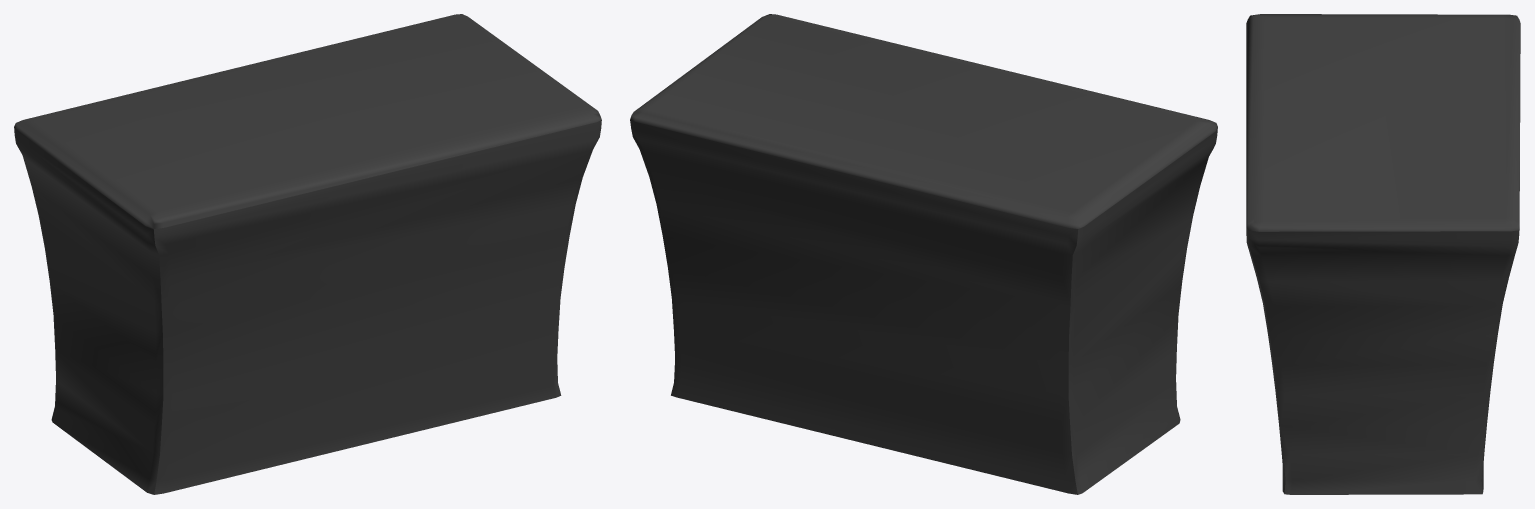
The model's file is multi-4ft-4-24.glb.
3 renders of one model, left to right at view 1: azimuth 30°, elevation 25°; view 2: azimuth 150°, elevation 25°; view 3: azimuth 270°, elevation 25°, orthographic. The views are drawn at different scales.
Parts seen in each view (by area): view 1: geometry_0; view 2: geometry_0; view 3: geometry_0.
Part boxes in pixels (x1,y1,x2,y2): geometry_0: [14, 14, 601, 494]; geometry_0: [630, 14, 1217, 494]; geometry_0: [1246, 14, 1520, 494].
Bounding box in the file's own units: 1.27 × 0.7812 × 0.6878.
Materials: 1 (1 with a texture image).
